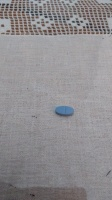Majezik: (54, 104, 75, 118)
